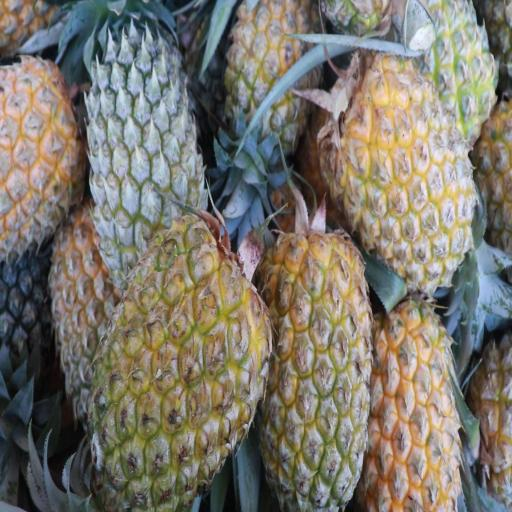------------------------------: (224, 0, 317, 149), (53, 208, 117, 404)
Pineapple - v8 v1: (99, 217, 270, 512), (263, 230, 370, 505), (340, 62, 471, 276), (366, 296, 456, 510), (0, 58, 84, 242)
